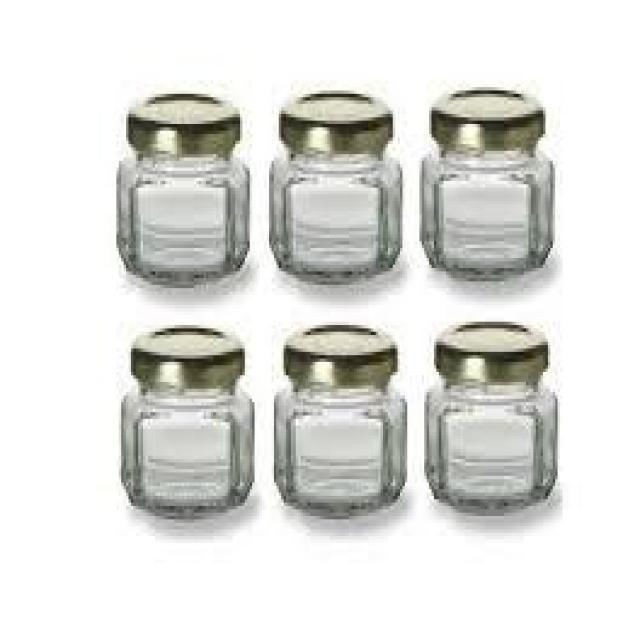glass: (264, 85, 408, 294)
